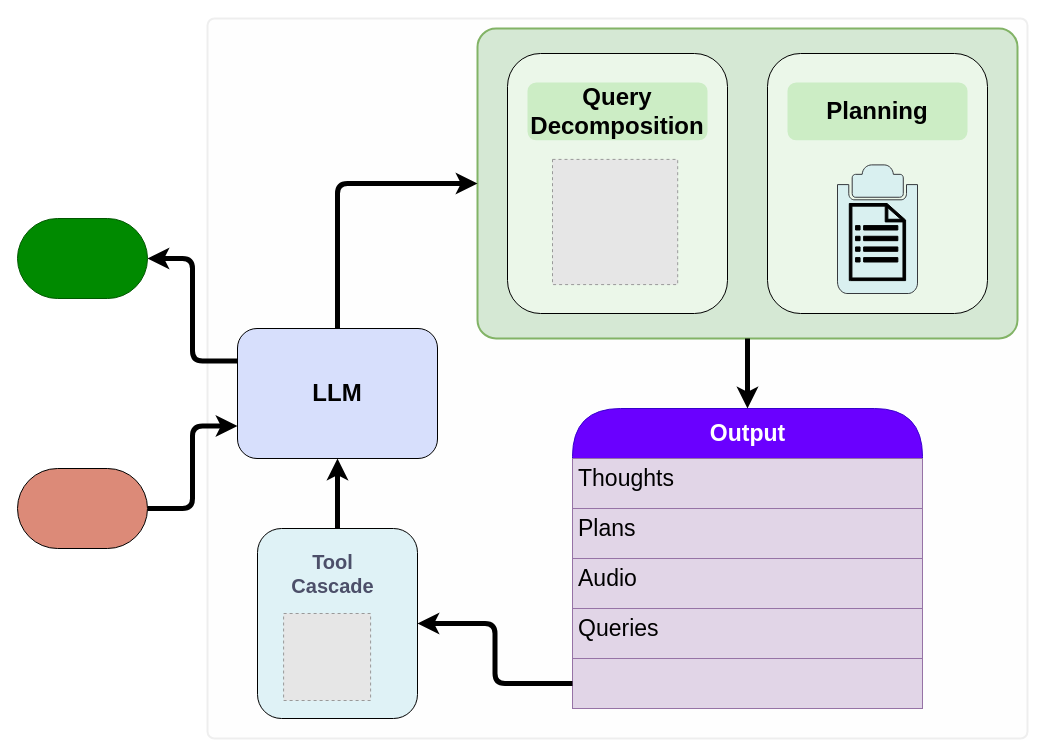
Some shapes in this 1046 by 756 pixel diagram are drawn without their labels. Grey dashed boxes stand in for pictures. The shapes that lost their labels are listed below. From the top down, each one's centre as x and y in pixels, then its label:
[82,258]: Answer
[82,508]: Query
[747,683]: Tool Calls
